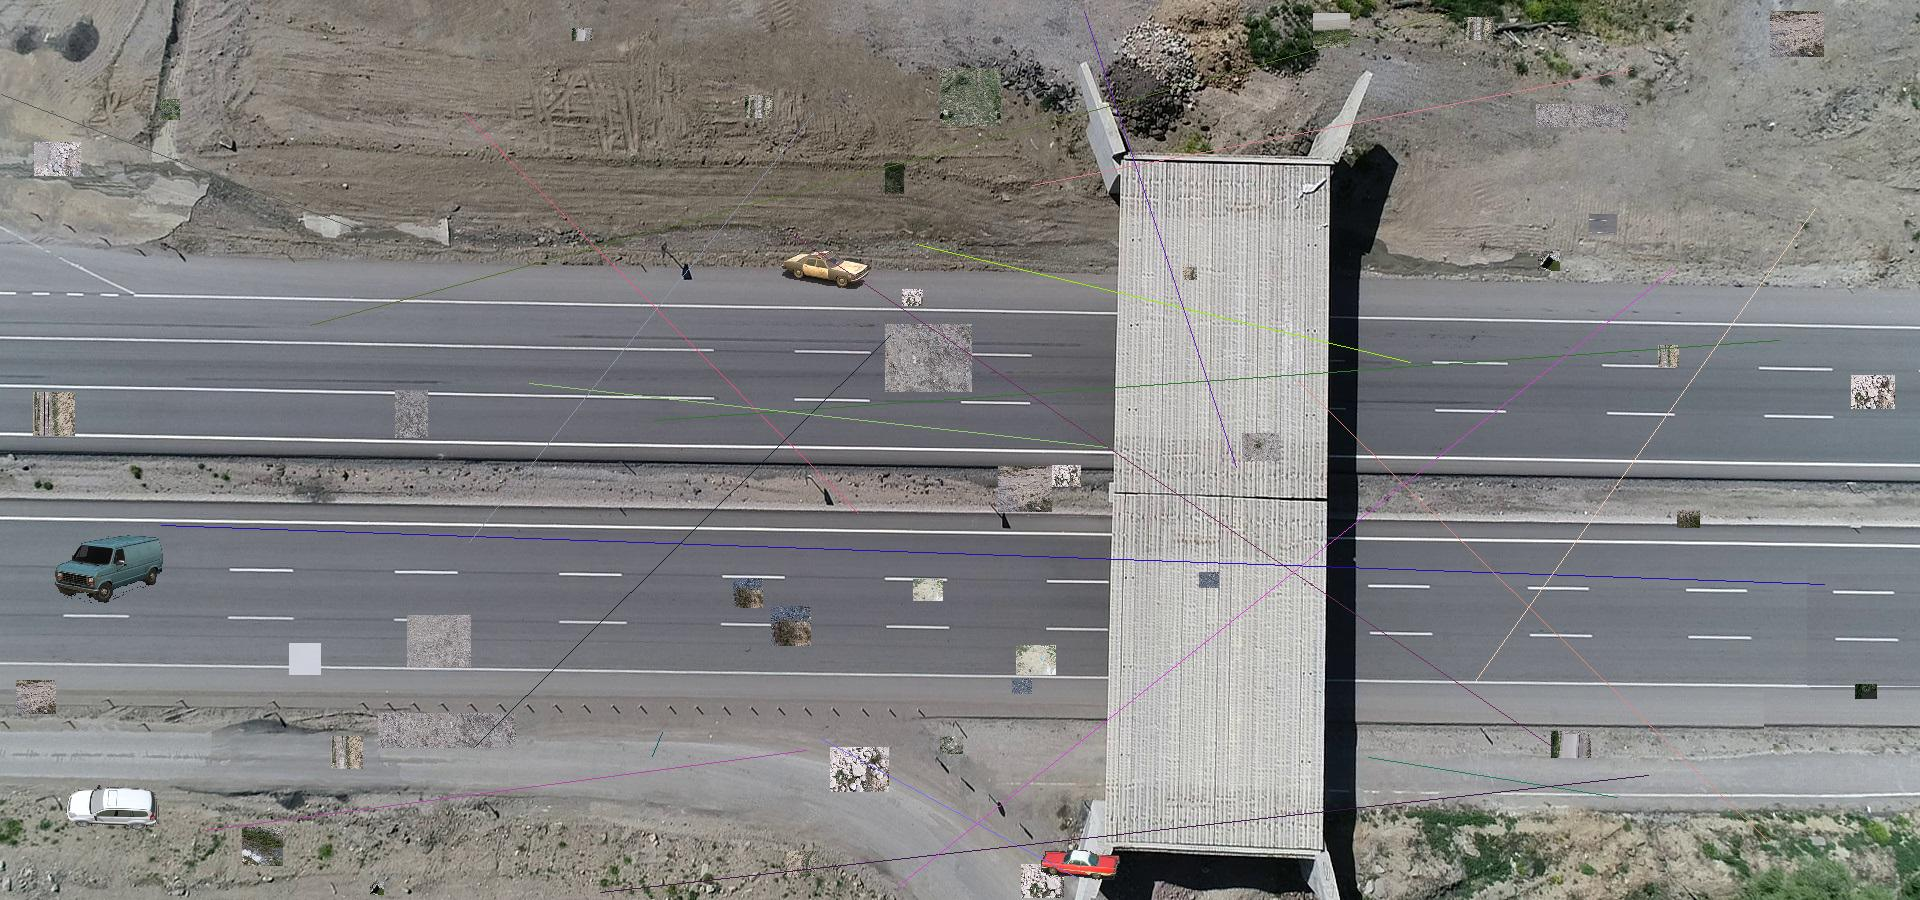arac: (54, 531, 163, 604), (66, 785, 160, 830), (782, 249, 869, 289), (1040, 850, 1122, 880)
